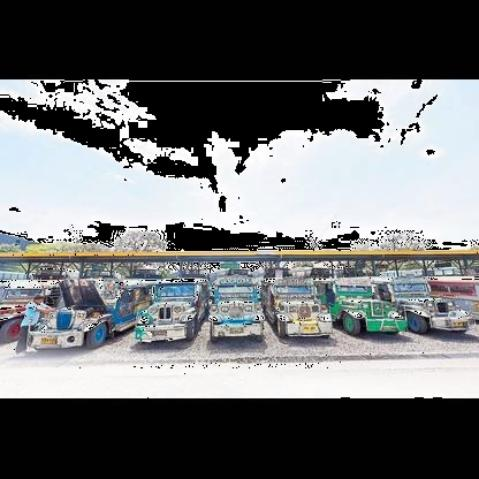jeepney: (133, 261, 211, 353), (329, 272, 402, 346), (266, 273, 335, 345), (205, 269, 266, 348)
